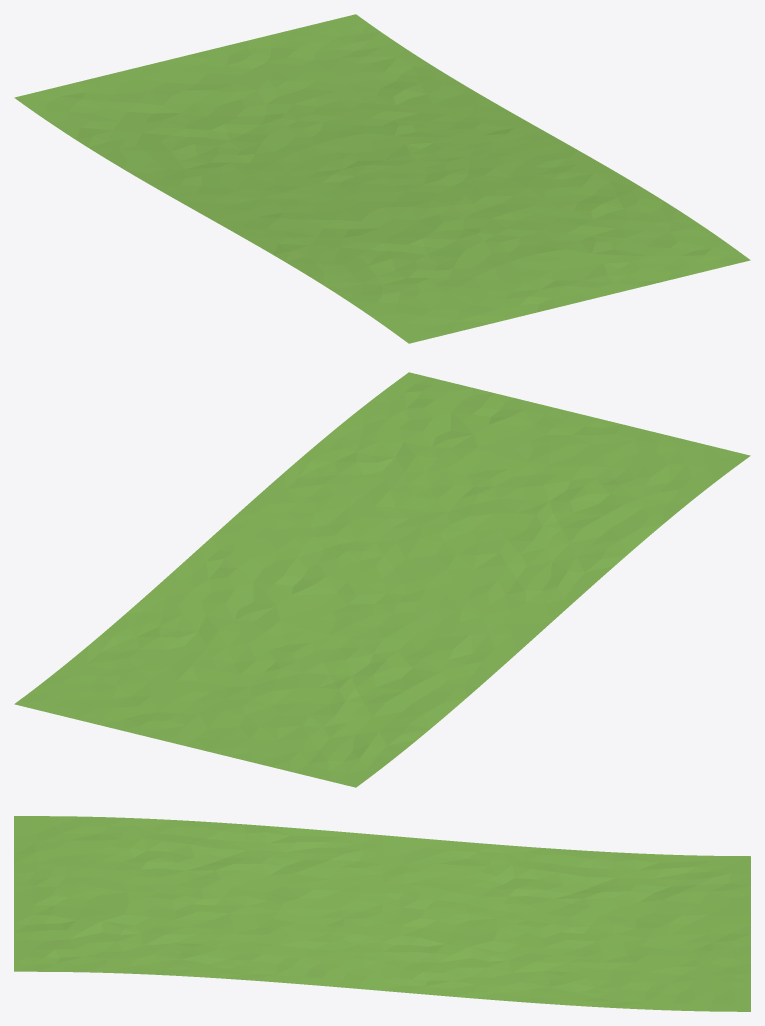
File: MT_River_End_M_d_01_LOD.fbx
3 renders of one model, top to bottom at view 1: azimuth 30°, elevation 25°; view 2: azimuth 150°, elevation 25°; view 3: azimuth 270°, elevation 25°, orthographic. The views are drawn at different scales.
Visible parts, largest first — view 1: MT_River_End_M_d_01_LOD0; view 2: MT_River_End_M_d_01_LOD0; view 3: MT_River_End_M_d_01_LOD0.
Boxes of the visible parts, <box> form: MT_River_End_M_d_01_LOD0: <box>14,14,750,343</box>; MT_River_End_M_d_01_LOD0: <box>14,372,750,787</box>; MT_River_End_M_d_01_LOD0: <box>14,816,750,1011</box>.
Size of what is drawn, in the model's own units: 50 by 6.14 by 100.
